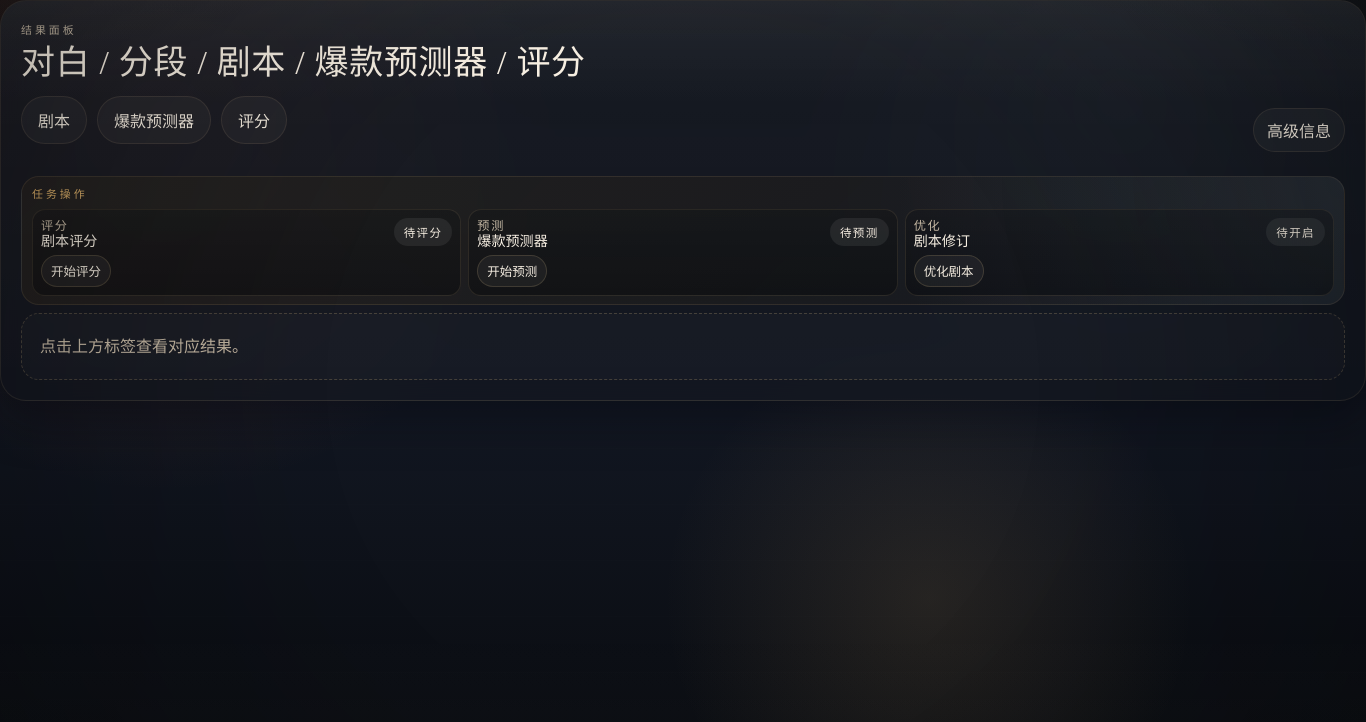
Scenario: renders script content inside a scrollable viewer with a standalone toolbar panel
This screenshot has width=1366, height=722.
Click the tab "剧本": (54, 120) left=21, top=96, right=87, bottom=144
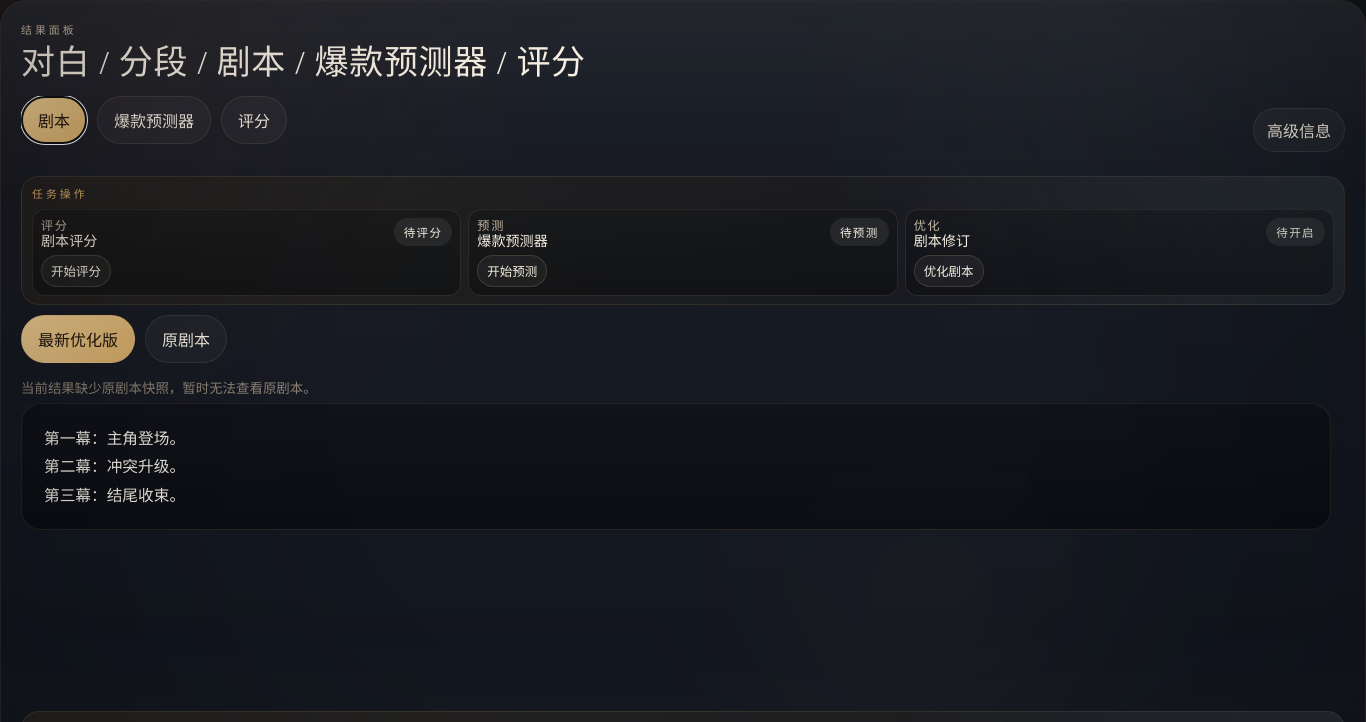
Expected: the element with class "result-display-slot" is shown, left=21, top=315, right=1331, bottom=530
Result: the element with test id "script-viewer" shows "第二幕：冲突升级。" at left=44, top=427, right=185, bottom=506
